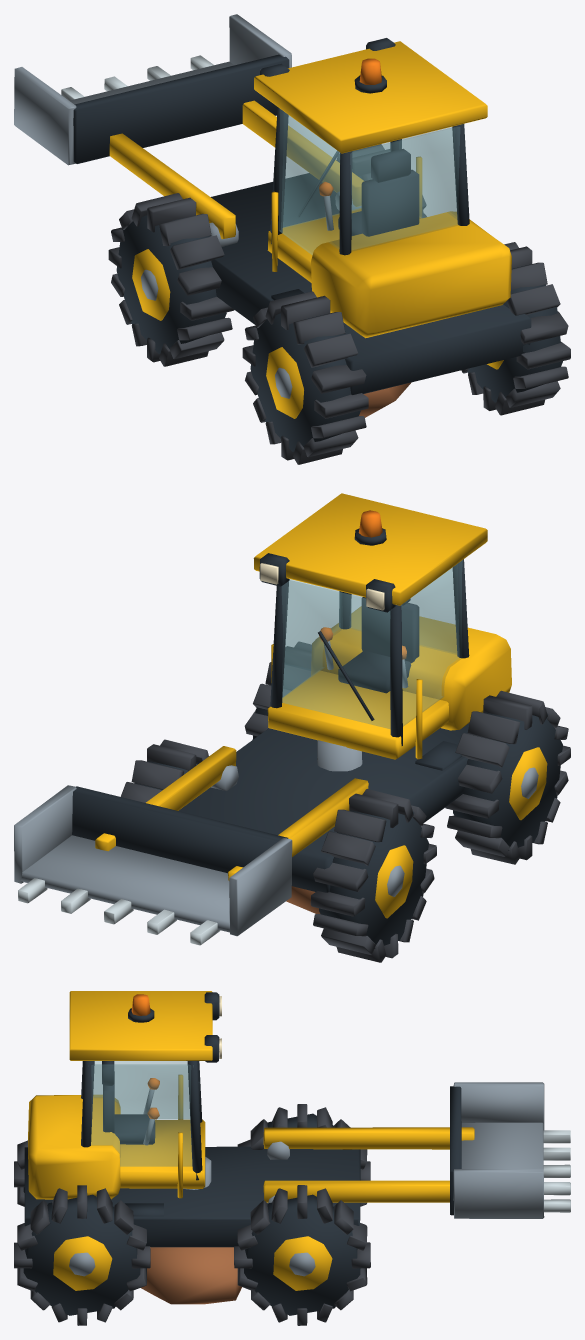
The model's file is loader-low.glb.
3 renders of one model, top to bottom at view 1: azimuth 30°, elevation 25°; view 2: azimuth 150°, elevation 25°; view 3: azimuth 270°, elevation 25°, orthographic. The views are drawn at different scales.
Parts seen in each view (by area): view 1: cab sill.002, chassis, side glazing.002, bucket back.001, headlight housing.004, tread block.016, tread block, tread block.048, bucket cheek.002, lift arm, tire.001, tire (+6 smaller); view 2: cab sill.002, side glazing.002, bucket cheek.002, chassis, headlight housing.004, tread block, bucket back.001, tread block.016, tire.001, tire, lift arm, tread block.032 (+6 smaller); view 3: cab sill.002, chassis, bucket cheek.002, side glazing.002, lift arm, tire.003, tire.002, tread block.032, tread block.048, headlight housing.004, material load.002, rim.002 (+7 smaller).
Boxes of the visible parts, x1,y1,x2,y2 form: cab sill.002: (254, 41, 511, 338); chassis: (211, 173, 531, 394); side glazing.002: (279, 109, 459, 254); bucket back.001: (73, 54, 289, 163); headlight housing.004: (260, 38, 469, 300); tread block.016: (242, 291, 368, 464); tread block: (108, 193, 234, 366); tread block.048: (461, 242, 570, 415); bucket cheek.002: (14, 14, 291, 165); lift arm: (109, 100, 363, 239); tire.001: (250, 313, 360, 451); tire: (116, 215, 226, 353); cab sill.002: (253, 493, 511, 759); side glazing.002: (282, 560, 462, 728); bucket cheek.002: (14, 785, 292, 936); chassis: (178, 712, 483, 892); headlight housing.004: (259, 553, 469, 770); tread block: (310, 789, 436, 962); bucket back.001: (72, 786, 288, 873); tread block.016: (445, 690, 570, 864); tire.001: (453, 712, 562, 850); tire: (319, 810, 428, 948); lift arm: (95, 746, 368, 880); tread block.032: (120, 739, 208, 802); cab sill.002: (28, 991, 212, 1199); chassis: (24, 1146, 360, 1247); bucket cheek.002: (453, 1082, 544, 1218); side glazing.002: (91, 1061, 192, 1166); lift arm: (263, 1127, 474, 1202); tire.003: (23, 1194, 140, 1315); tire.002: (244, 1194, 360, 1315); tread block.032: (234, 1185, 370, 1325); tread block.048: (14, 1185, 150, 1325); headlight housing.004: (81, 992, 219, 1216); material load.002: (141, 1247, 241, 1304); rim.002: (273, 1236, 332, 1290).
Size of the model in its own units: 2.99 by 4.25 by 7.08.
